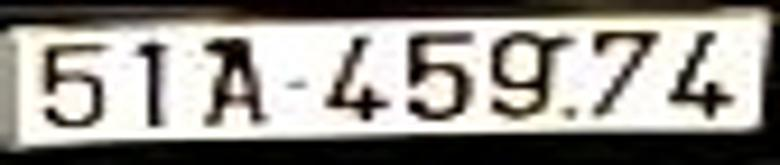-: (284, 75, 314, 93)
.: (558, 99, 579, 122)
1: (129, 40, 176, 132)
4: (668, 31, 738, 120), (326, 35, 391, 125)
5: (405, 28, 479, 123), (38, 39, 109, 129)
7: (586, 26, 659, 118)
9: (483, 32, 552, 120)
A: (205, 38, 273, 125)
